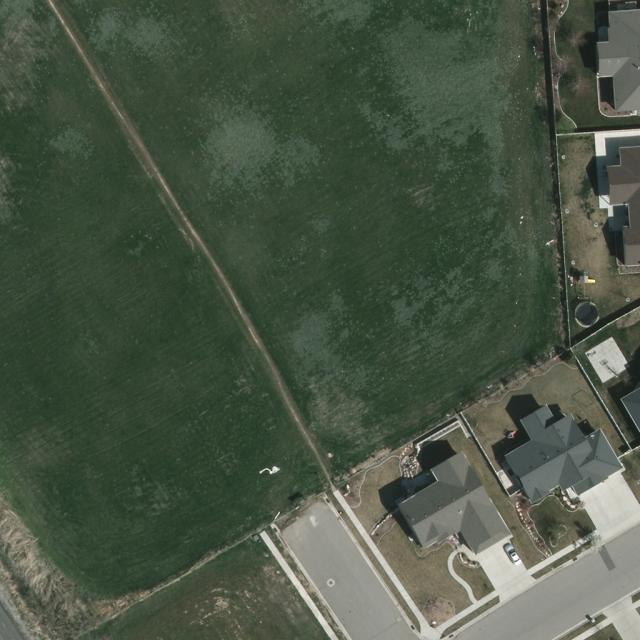vehicle: (502, 542, 522, 566)
